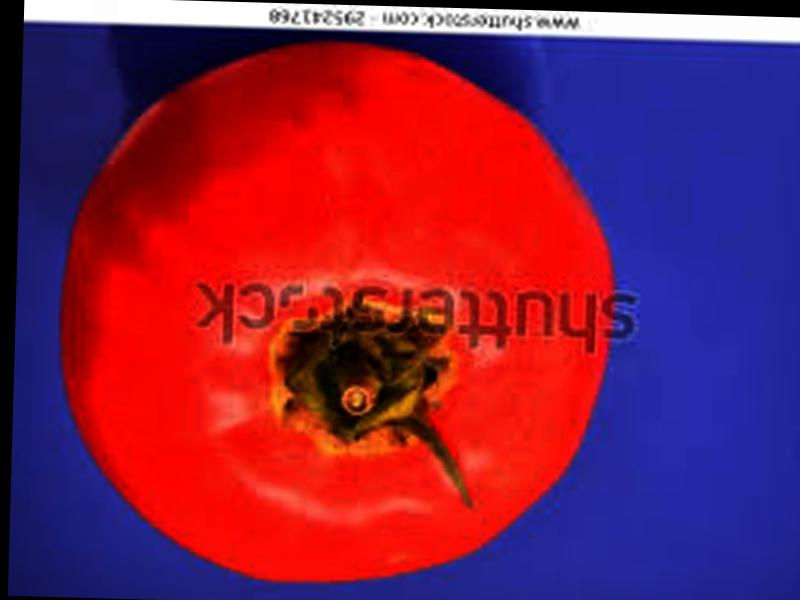Tomato: (51, 44, 620, 590)
